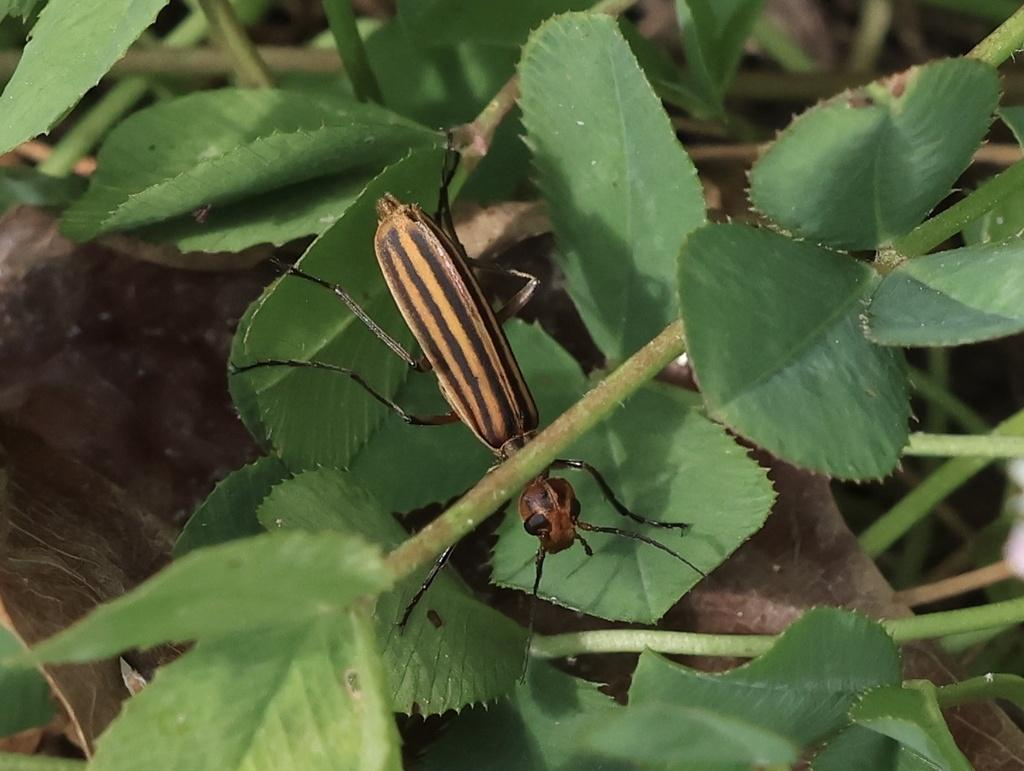blister_beetle: (197, 84, 759, 681)
